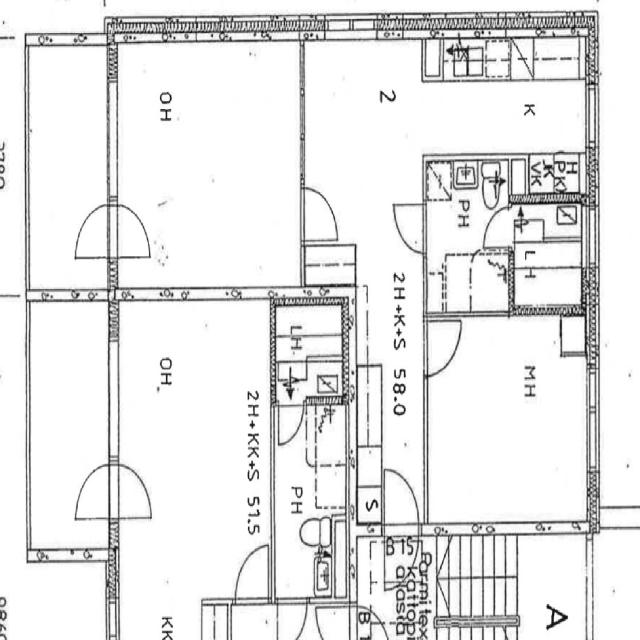door: (230, 538, 273, 607), (298, 179, 342, 246), (72, 198, 113, 266), (71, 458, 113, 524), (116, 457, 157, 524), (114, 198, 155, 263), (382, 463, 421, 528), (424, 316, 463, 378), (391, 198, 428, 255), (275, 399, 306, 449), (483, 202, 514, 251), (278, 594, 310, 640)
window: (102, 331, 125, 466), (102, 73, 126, 201), (582, 360, 606, 481), (324, 10, 380, 44), (582, 75, 602, 154), (581, 202, 600, 276), (294, 79, 311, 147)
zone: (120, 302, 272, 620), (128, 45, 301, 290), (424, 312, 591, 530), (24, 36, 110, 298), (26, 294, 112, 551), (514, 530, 592, 639), (512, 204, 586, 314), (364, 534, 436, 640), (274, 307, 346, 398), (590, 519, 640, 640), (460, 244, 512, 315), (312, 518, 351, 602), (527, 152, 585, 201)
